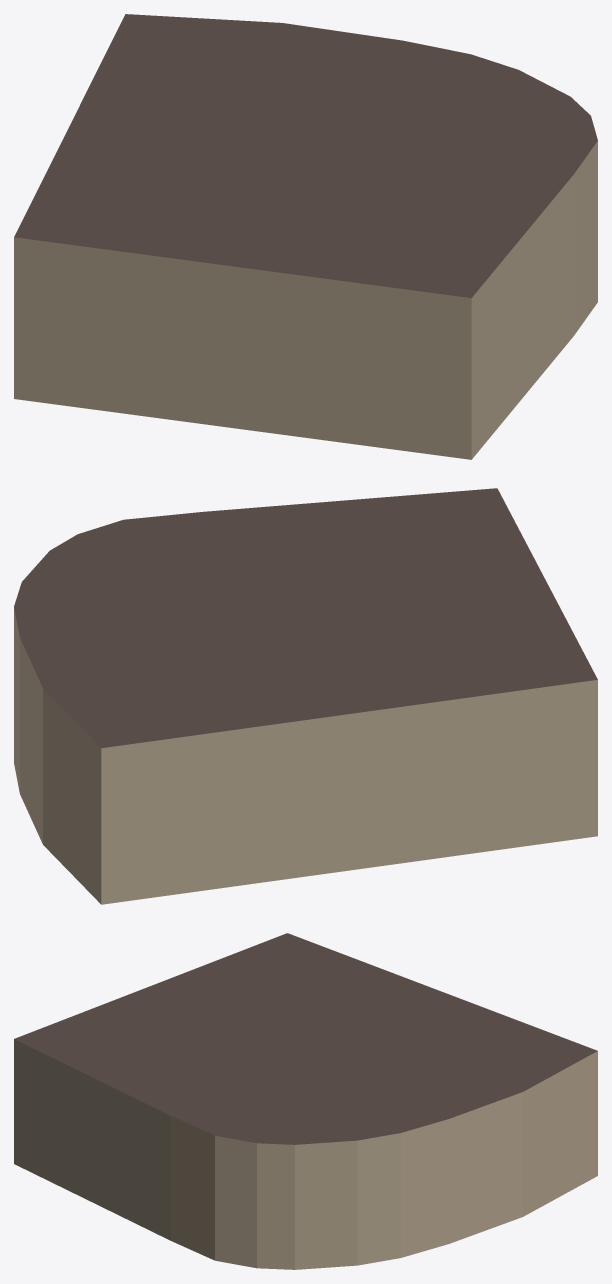
The picture shows the model from 3 angles, top to bottom: view 1: azimuth 30°, elevation 25°; view 2: azimuth 150°, elevation 25°; view 3: azimuth 270°, elevation 25°; orthographic projection. The views are drawn at different scales.
Visible parts, largest first — view 1: HP-w369342448; view 2: HP-w369342448; view 3: HP-w369342448.
Part boxes in pixels (x1,y1,x2,y2): HP-w369342448: [14, 14, 597, 459]; HP-w369342448: [14, 488, 597, 904]; HP-w369342448: [14, 933, 597, 1269].
Bounding box in the file's own units: 32.7 × 9 × 38.1.
